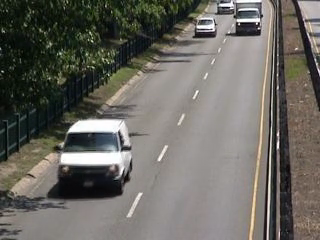car: (193, 17, 219, 39), (215, 1, 236, 16)
truck: (48, 116, 135, 196), (236, 1, 264, 39)
